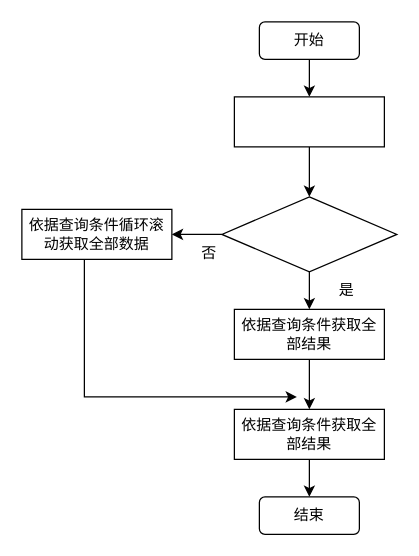
This 419x556 diagram has some shape labels left out. Here are the shapes that lost their labels. From the top down, the box of each, then its label:
(233, 96, 384, 147): 依据检索条件统计检索到的结果
(221, 196, 397, 272): 判断搜索结果是 否超过了2000条
